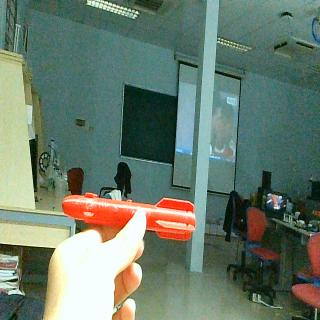Rocket: (60, 191, 196, 241)
